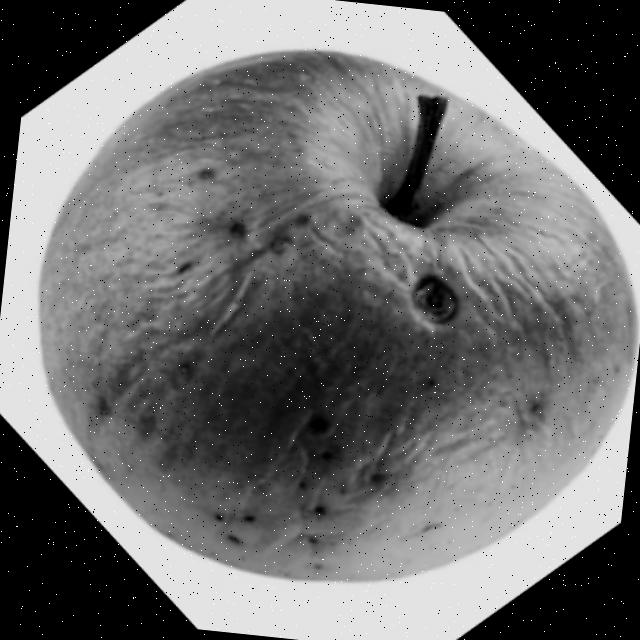overripe: (9, 17, 640, 619)
